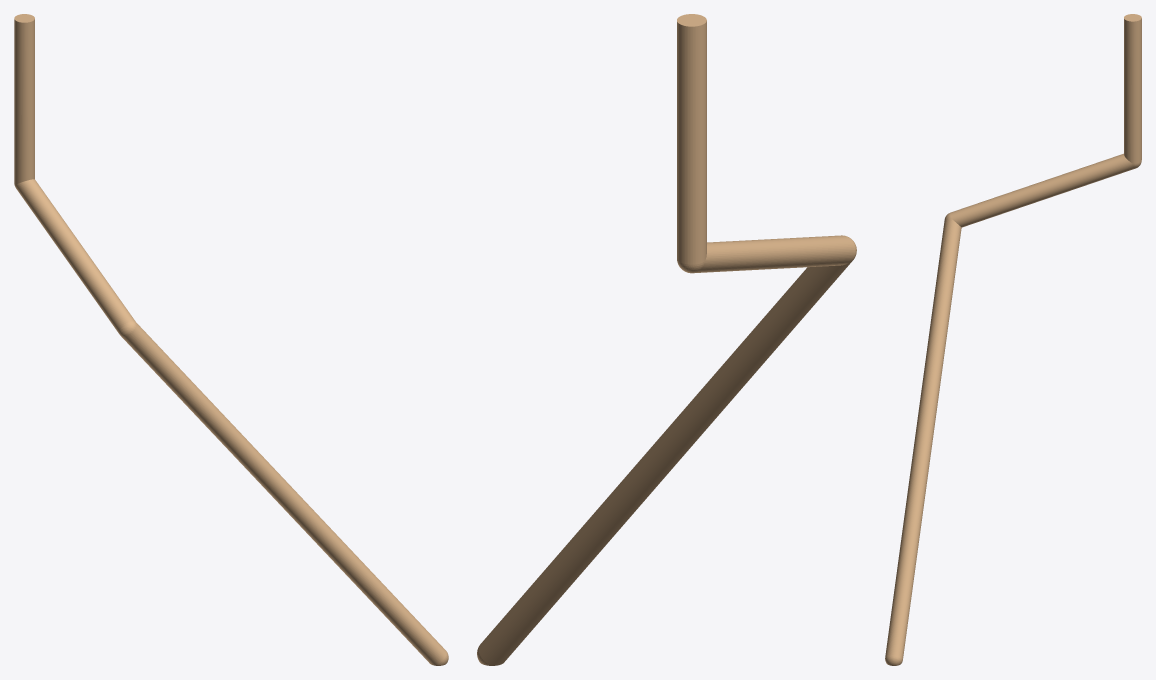
File: starter-solenoid-lead-pull-s.glb
The picture shows the model from 3 angles, left to right: view 1: azimuth 30°, elevation 25°; view 2: azimuth 150°, elevation 25°; view 3: azimuth 270°, elevation 25°; orthographic projection. The views are drawn at different scales.
Parts seen in each view (by area): view 1: world; view 2: world; view 3: world.
Boxes of the visible parts, bbox=[...] form: world: bbox=[14, 14, 448, 665]; world: bbox=[477, 14, 856, 665]; world: bbox=[885, 14, 1141, 665].
Bounding box in the file's own units: 0.0131 × 0.026 × 0.0114.
